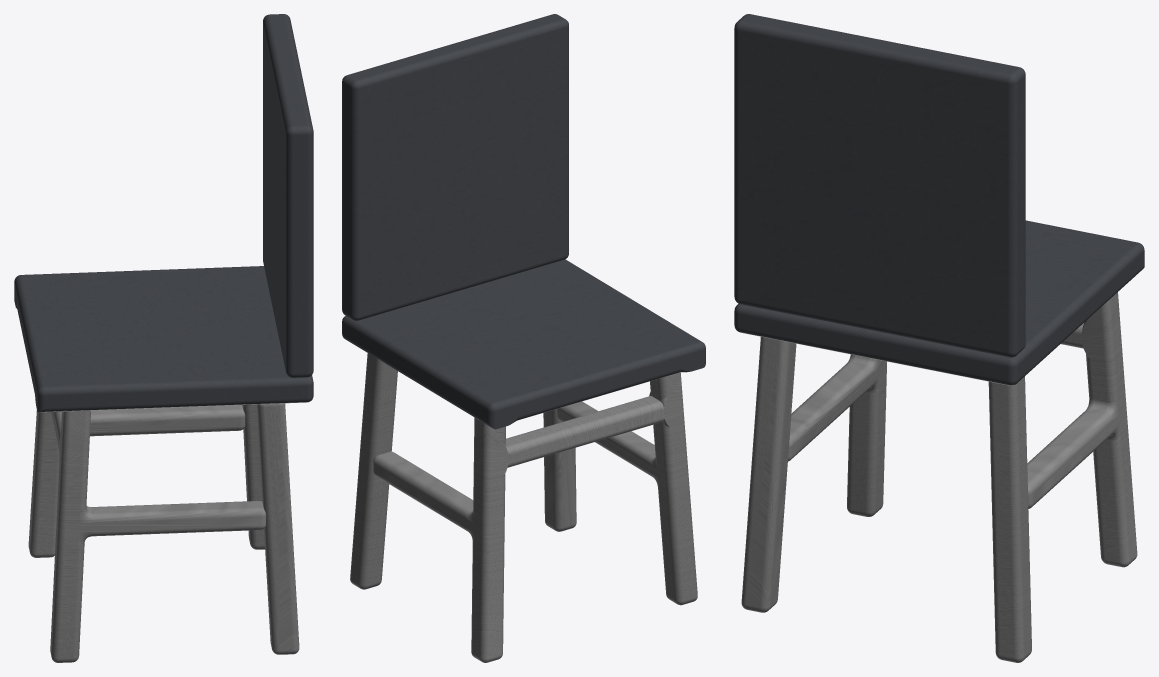
Rendered from chair.gltf.
3 views of the same model, side by side, from view 1: azimuth 30°, elevation 25°; view 2: azimuth 150°, elevation 25°; view 3: azimuth 270°, elevation 25° (orthographic). The views are drawn at different scales.
Visible parts, largest first — view 1: Cube.334; view 2: Cube.334; view 3: Cube.334.
Part boxes in pixels (bbox=[...]): Cube.334: bbox=[14, 14, 313, 662]; Cube.334: bbox=[342, 14, 705, 662]; Cube.334: bbox=[734, 14, 1144, 662].
Size of the model in its own units: 0.3937 by 0.63 by 0.3937.
2 materials, 2 textured.
